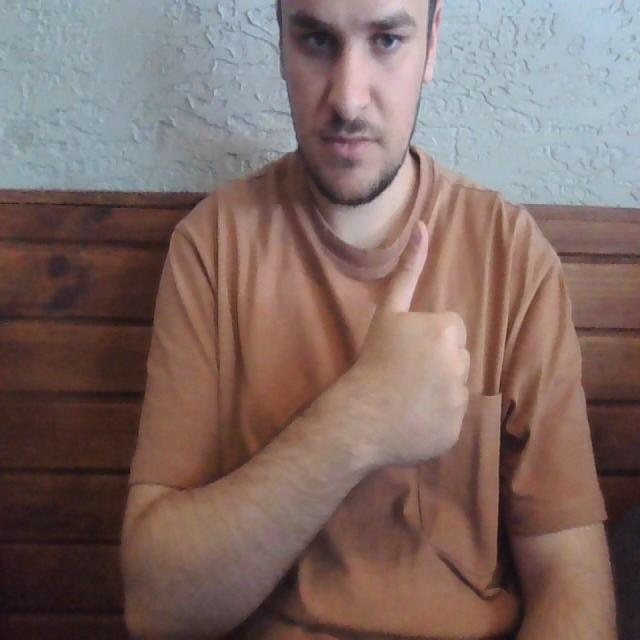Tamam: (352, 212, 480, 472)
